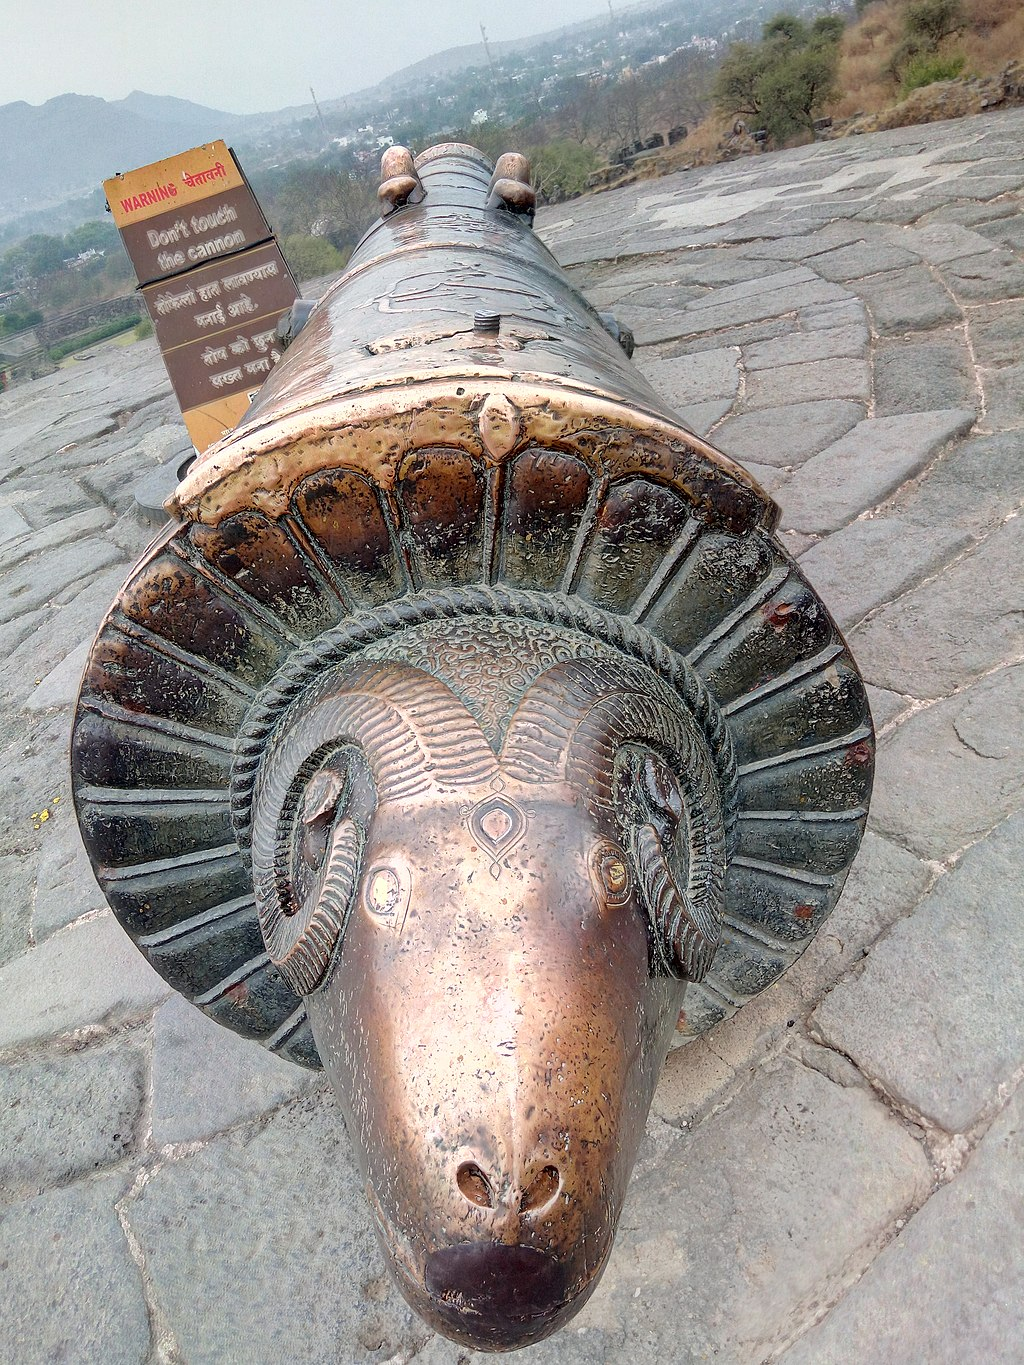Mendha Tope: (5, 8, 1016, 1357)
